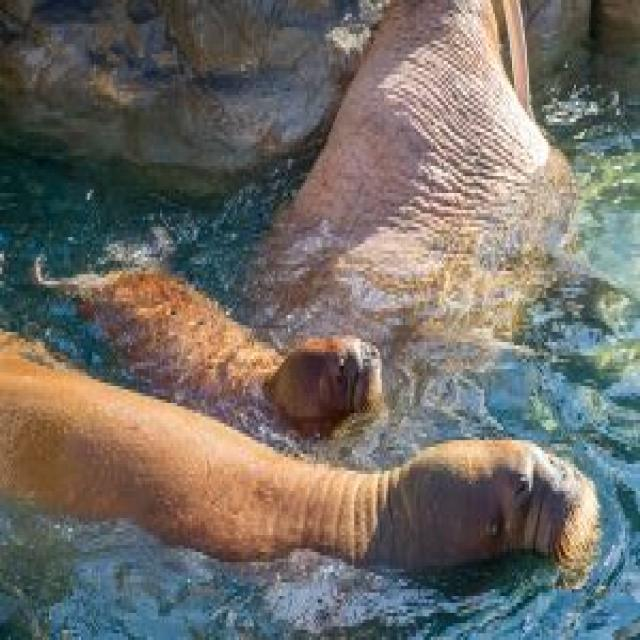walrus: (7, 372, 598, 595), (33, 243, 386, 433)
